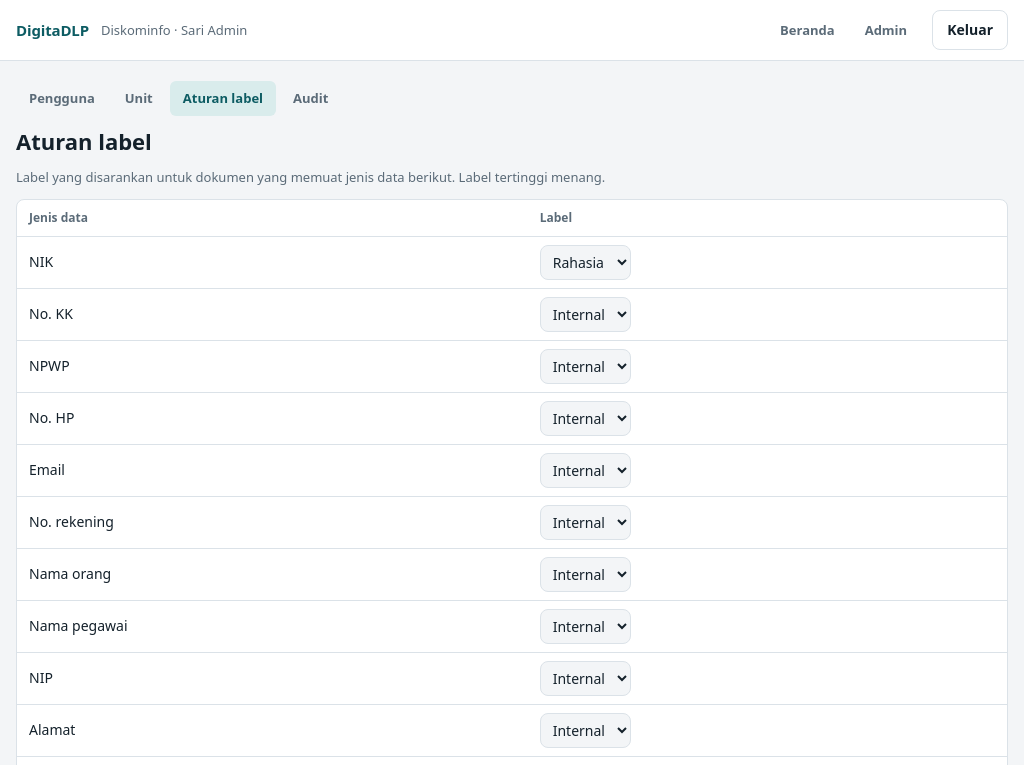
restore defaults mirrors backend default_label_for
Expected: the dropdown named "Label NIK" is shown, [540, 245, 631, 280]
Select "Rahasia" in the dropdown named "Label Email" at (585, 470), box [540, 453, 631, 488]
(page scrolled)
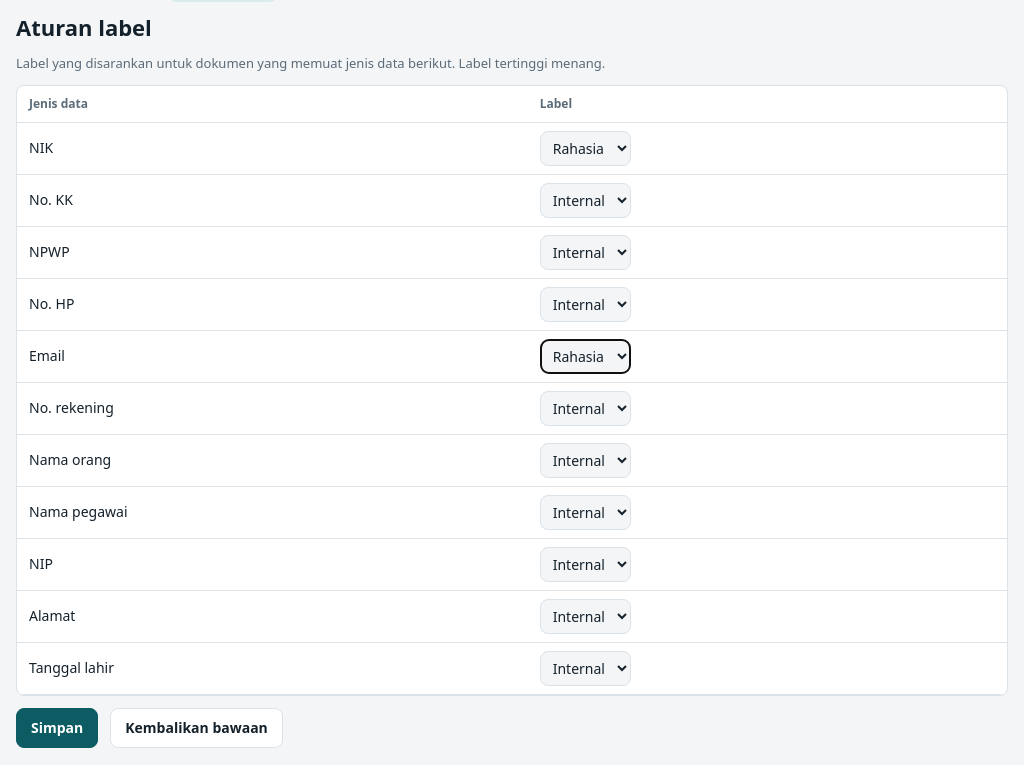
Click the button "Kembalikan bawaan" at (197, 728), box [110, 708, 283, 748]
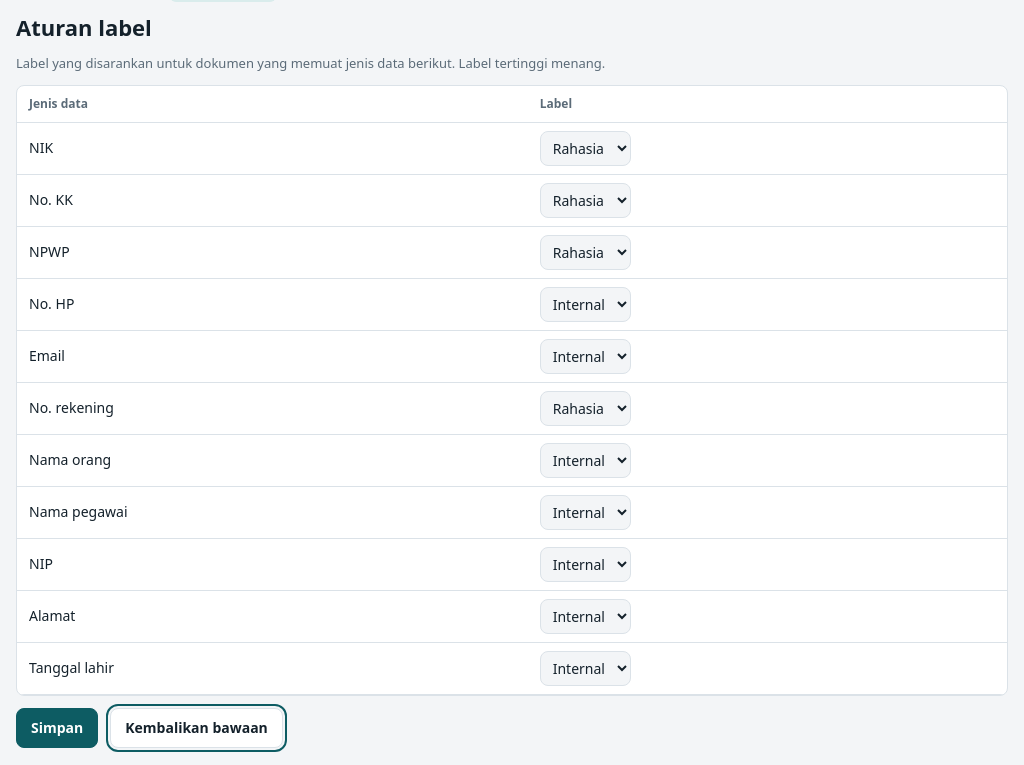
Expected: the dropdown named "Label No. KK" shows "Rahasia", [540, 183, 631, 218]
Expected: the dropdown named "Label No. rekening" shows "Rahasia", [540, 391, 631, 426]
Expected: the dropdown named "Label NPWP" shows "Rahasia", [540, 235, 631, 270]
